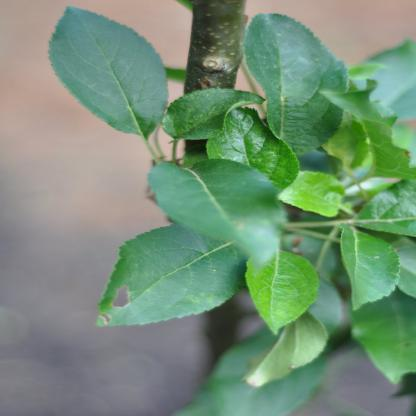Apple leaf: (42, 2, 180, 141), (90, 223, 260, 334), (149, 156, 314, 268), (231, 7, 345, 145), (239, 238, 321, 340), (328, 216, 409, 314)
